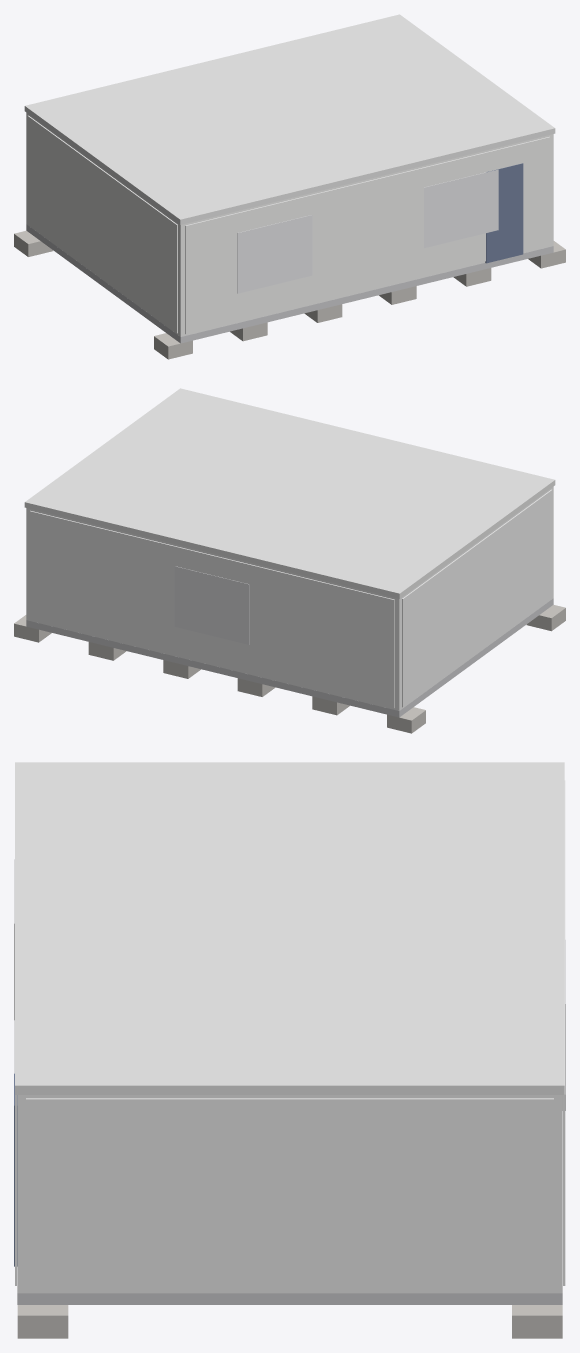
File: Studio-30-Premium+FullSolar-LOD3.glb
3 views of the same model, one above another, from view 1: azimuth 30°, elevation 25°; view 2: azimuth 150°, elevation 25°; view 3: azimuth 270°, elevation 25° (orthographic). The views are drawn at different scales.
Visible parts, largest first — view 1: RoofMain, ExteriorPanelsPremium, WindowsLargeUpgrade, BaseFrame, FoundationBlocks, ExteriorShell, EntryDoor; view 2: RoofMain, ExteriorPanelsPremium, WindowsLargeUpgrade, BaseFrame, ExteriorShell, FoundationBlocks; view 3: RoofMain, ExteriorPanelsPremium, ExteriorShell, BaseFrame, FoundationBlocks.
Boxes of the visible parts, <box> form: RoofMain: <box>24,14,555,224</box>; ExteriorPanelsPremium: <box>27,115,549,334</box>; WindowsLargeUpgrade: <box>237,169,498,293</box>; BaseFrame: <box>26,224,553,343</box>; FoundationBlocks: <box>14,230,565,359</box>; ExteriorShell: <box>26,112,553,336</box>; EntryDoor: <box>485,163,523,263</box>; RoofMain: <box>24,388,555,598</box>; ExteriorPanelsPremium: <box>30,489,552,708</box>; WindowsLargeUpgrade: <box>174,566,249,644</box>; BaseFrame: <box>26,598,553,717</box>; ExteriorShell: <box>26,486,553,710</box>; FoundationBlocks: <box>14,604,565,733</box>; RoofMain: <box>15,762,564,1094</box>; ExteriorPanelsPremium: <box>15,780,565,1290</box>; ExteriorShell: <box>17,1095,562,1293</box>; BaseFrame: <box>17,1293,562,1304</box>; FoundationBlocks: <box>17,1305,562,1338</box>.
Bounding box in the file's own units: 9.6 × 3.17 × 6.53.
